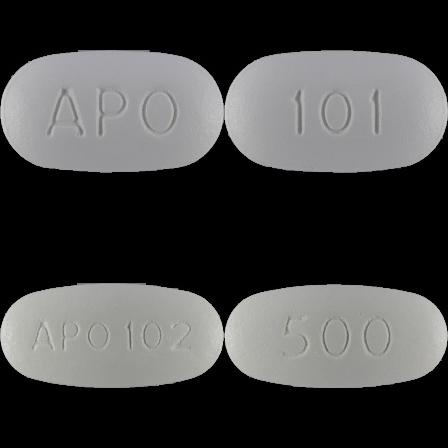60505-0101: (0, 0, 224, 224)
